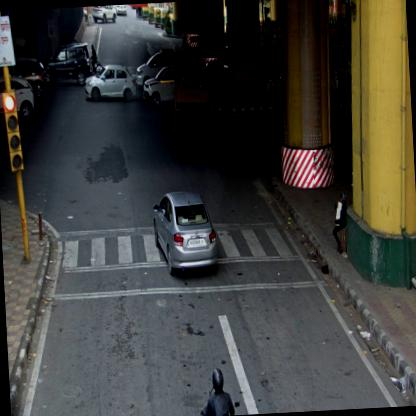car: (150, 188, 218, 276), (140, 63, 192, 108), (43, 42, 92, 88), (132, 50, 188, 89), (83, 64, 137, 103), (0, 73, 37, 125), (7, 56, 44, 98), (91, 4, 117, 26), (113, 4, 127, 19)
